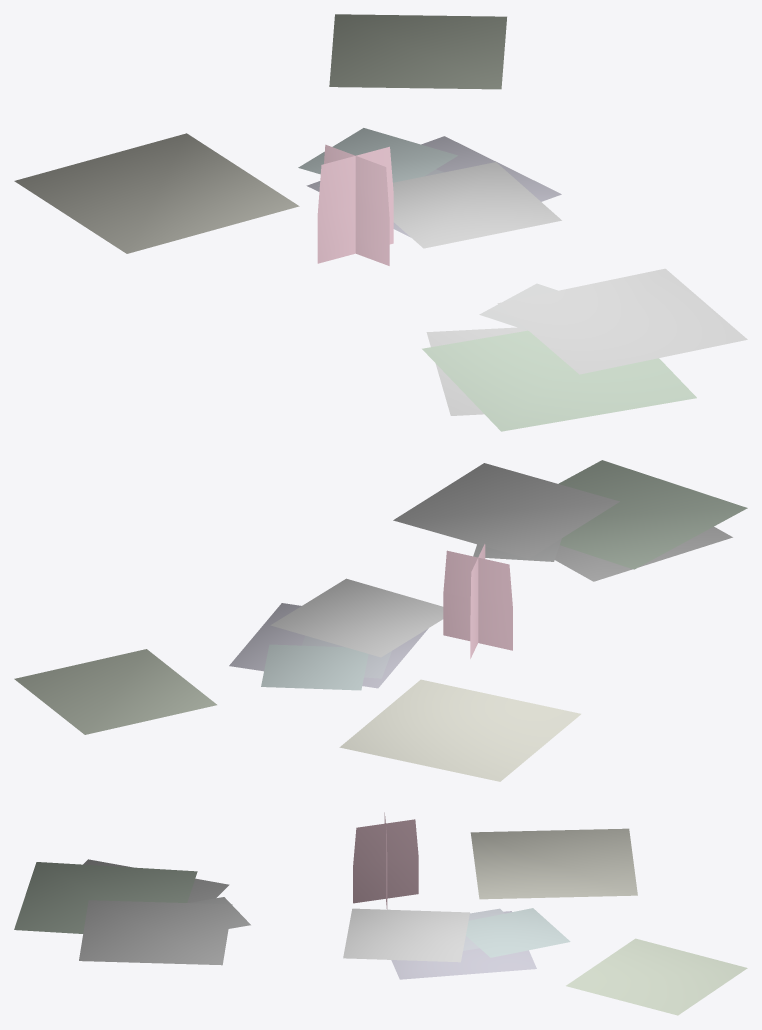
File: lily_1.glb
The picture shows the model from 3 angles, top to bottom: view 1: azimuth 30°, elevation 25°; view 2: azimuth 150°, elevation 25°; view 3: azimuth 270°, elevation 25°; orthographic projection. The views are drawn at different scales.
Visible parts, largest first — view 1: lily_1; view 2: lily_1; view 3: lily_1.
Part boxes in pixels (x1,y1,x2,y2): lily_1: (14, 14, 747, 431); lily_1: (14, 460, 747, 781); lily_1: (14, 812, 747, 1015).
Bounding box in the file's own units: 0.6734 × 0.12 × 1.06.
